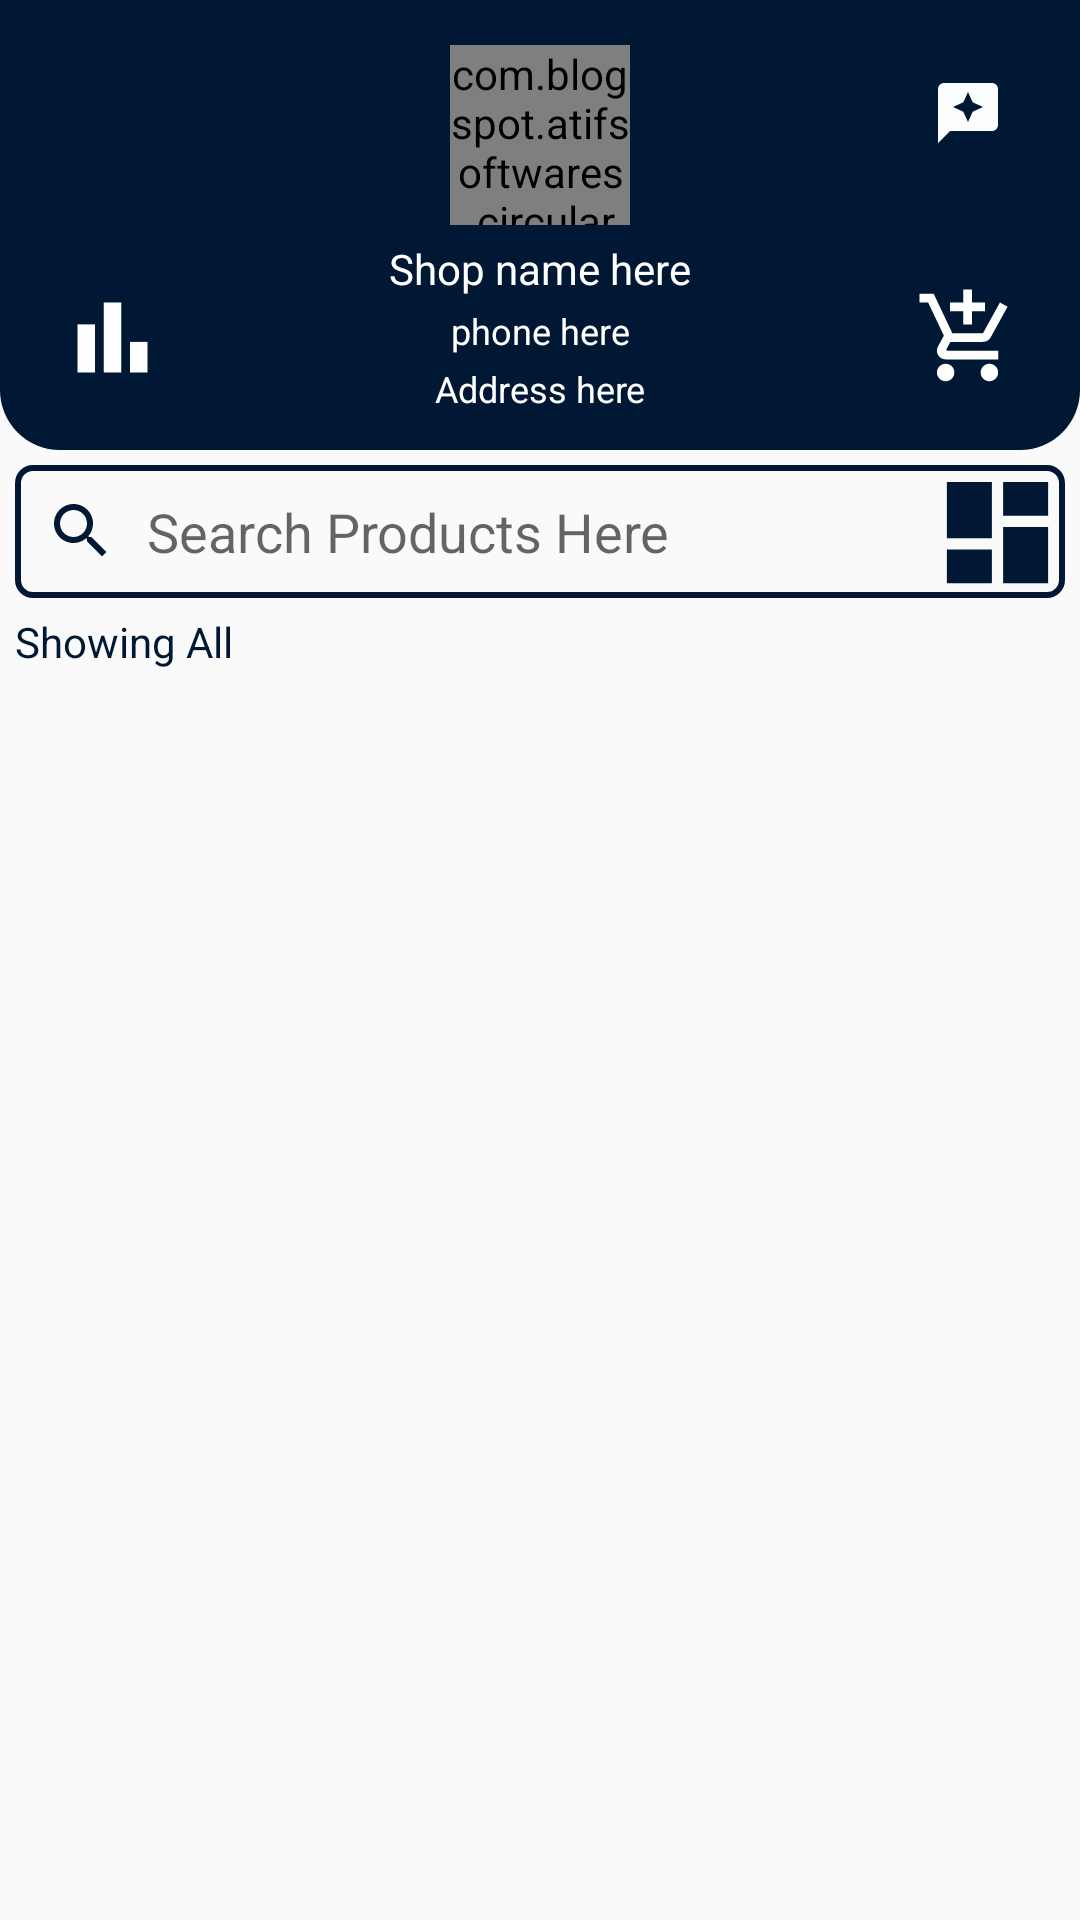

Where icons sit on this 1080 x 1920 app screen, as rect(x1, y1, x2, y2):
add shopping cart: rect(919, 289, 1008, 382)
reviews: rect(938, 83, 998, 143)
